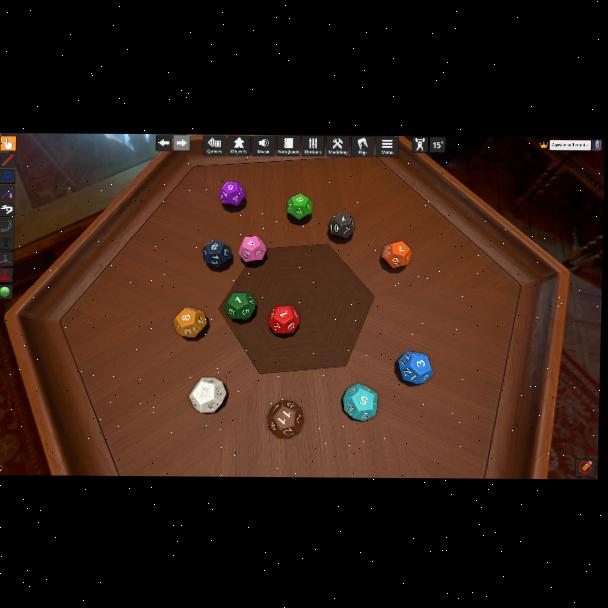d12: (266, 400, 304, 439), (342, 385, 377, 421), (189, 378, 225, 413), (399, 350, 433, 382), (174, 308, 207, 339), (224, 293, 256, 321), (202, 240, 231, 269), (269, 306, 299, 334), (238, 236, 265, 264), (286, 194, 313, 221), (328, 212, 354, 239), (218, 182, 245, 208), (382, 240, 407, 268), (430, 137, 446, 152)
